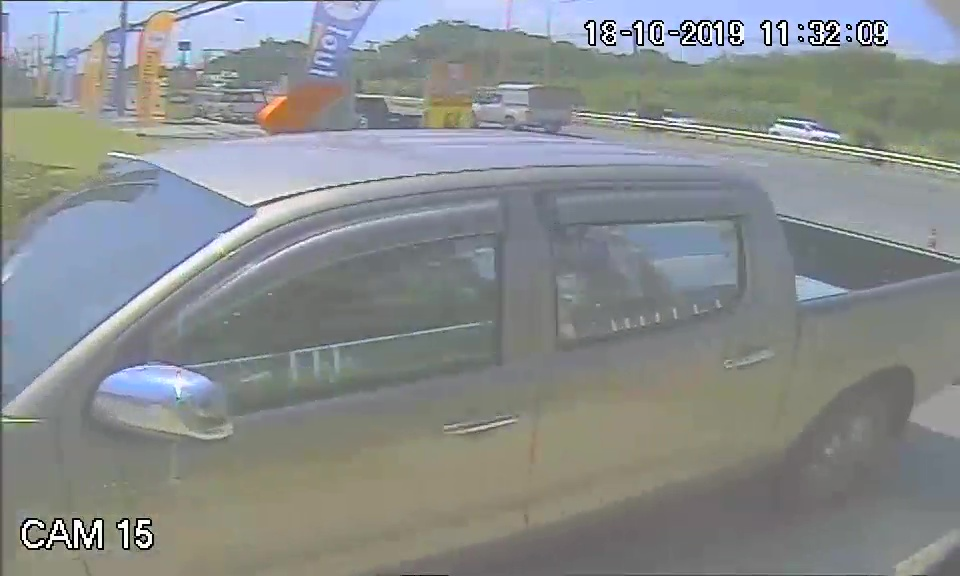pickup: (10, 129, 800, 552)
